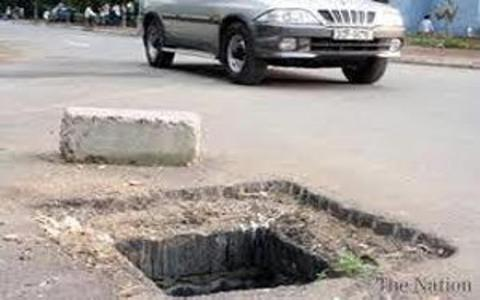open manhole: (45, 171, 453, 291)
